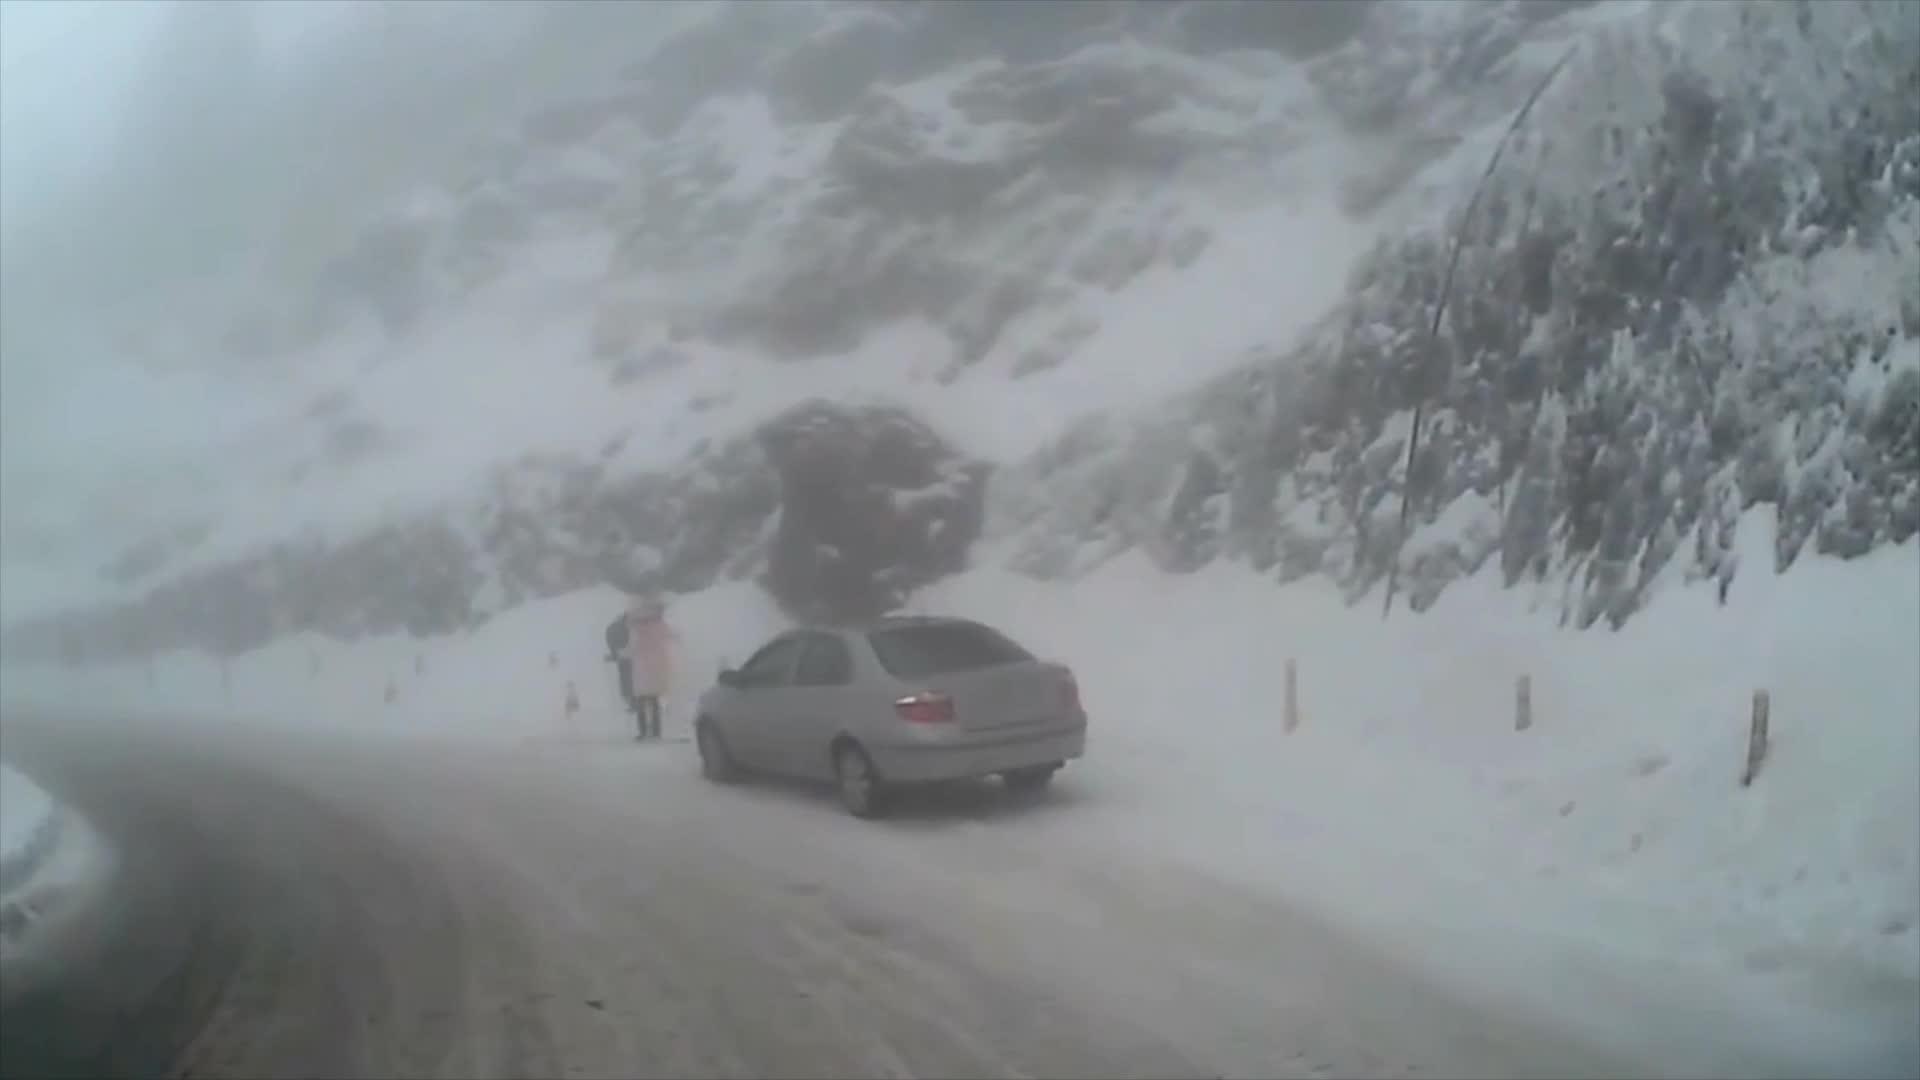pedestrian: (608, 596, 688, 747)
vehicle: (692, 618, 1089, 824)
